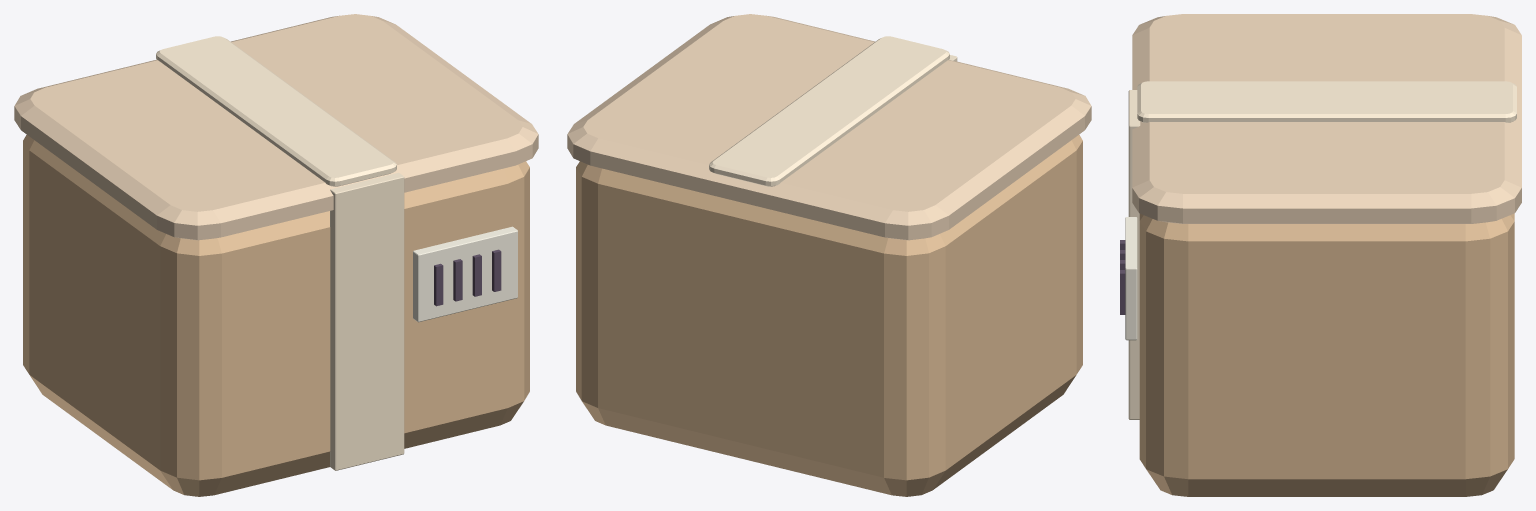
The model's file is item_box.glb.
3 views of the same model, side by side, from view 1: azimuth 30°, elevation 25°; view 2: azimuth 150°, elevation 25°; view 3: azimuth 270°, elevation 25° (orthographic). The views are drawn at different scales.
Parts seen in each view (by area): view 1: carton, lid, model, ribbon, label; view 2: carton, lid, ribbon; view 3: carton, lid, ribbon, model, label.
Boxes of the visible parts, x1,y1,x2,y2 form: carton: (23, 135, 529, 496); lid: (14, 14, 538, 240); model: (330, 172, 501, 470); ribbon: (156, 36, 396, 186); label: (413, 226, 517, 322); carton: (576, 135, 1082, 496); lid: (567, 14, 1091, 240); ribbon: (709, 36, 949, 186); carton: (1139, 213, 1514, 496); lid: (1132, 14, 1521, 223); ribbon: (1137, 81, 1516, 122); model: (1120, 90, 1140, 419); label: (1125, 217, 1137, 340).
Bounding box in the file's own units: 0.4 × 0.3 × 0.35.
